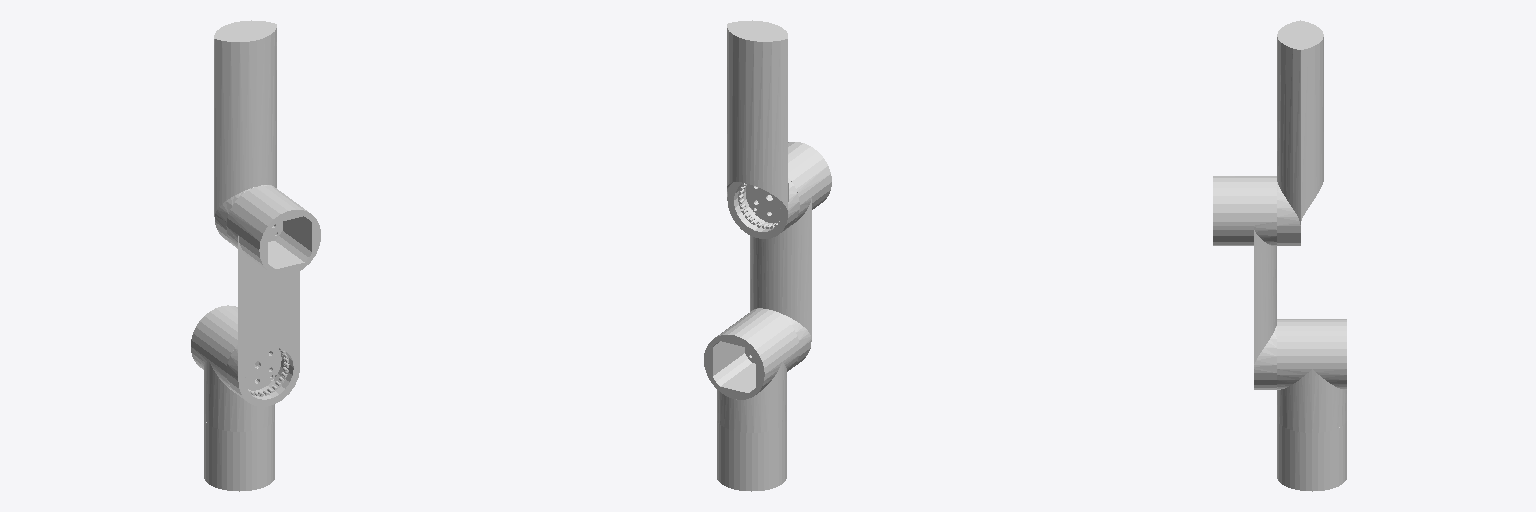
robot.urdf — arm-v6-ik:
<?xml version="1.0" encoding="utf-8"?>
<!-- This URDF was automatically created by SolidWorks to URDF Exporter! Originally created by Stephen Brawner (brawner@gmail.com) 
     Commit Version: 1.6.0-4-g7f85cfe  Build Version: 1.6.7995.38578
     For more information, please see http://wiki.ros.org/sw_urdf_exporter -->
<robot
  name="arm-v6-ik">
  <link
    name="base_link">
    <inertial>
      <origin
        xyz="2.3661E-18 -0.019937 2.4154E-18"
        rpy="0 0 0" />
      <mass
        value="0.067122" />
      <inertia
        ixx="4.1725E-05"
        ixy="9.8334E-22"
        ixz="6.7643E-22"
        iyy="4.5278E-05"
        iyz="-5.7814E-21"
        izz="4.1725E-05" />
    </inertial>
    <visual>
      <origin
        xyz="0 0 0"
        rpy="0 0 0" />
      <geometry>
        <mesh
          filename="meshes/base_link.STL" />
      </geometry>
      <material
        name="">
        <color
          rgba="0.89412 0.89412 0.89412 1" />
      </material>
    </visual>
    <collision>
      <origin
        xyz="0 0 0"
        rpy="0 0 0" />
      <geometry>
        <mesh
          filename="meshes/base_link.STL" />
      </geometry>
    </collision>
  </link>
  <link
    name="rotary">
    <inertial>
      <origin
        xyz="0.0016484 -5.4453E-07 0.050018"
        rpy="0 0 0" />
      <mass
        value="0.11473" />
      <inertia
        ixx="0.00011646"
        ixy="2.1954E-10"
        ixz="-2.8336E-06"
        iyy="0.00011303"
        iyz="-7.8031E-11"
        izz="7.9819E-05" />
    </inertial>
    <visual>
      <origin
        xyz="0 0 0"
        rpy="0 0 0" />
      <geometry>
        <mesh
          filename="meshes/rotary.STL" />
      </geometry>
      <material
        name="">
        <color
          rgba="0.89412 0.89412 0.89412 1" />
      </material>
    </visual>
    <collision>
      <origin
        xyz="0 0 0"
        rpy="0 0 0" />
      <geometry>
        <mesh
          filename="meshes/rotary.STL" />
      </geometry>
    </collision>
  </link>
  <joint
    name="rotary"
    type="revolute">
    <origin
      xyz="0 0 0"
      rpy="0 0 -1.5708" />
    <parent
      link="base_link" />
    <child
      link="rotary" />
    <axis
      xyz="0 0 1" />
    <limit
      lower="0"
      upper="0"
      effort="0"
      velocity="0" />
  </joint>
  <link
    name="shoulder">
    <inertial>
      <origin
        xyz="-0.085778 7.1453E-07 0.020049"
        rpy="0 0 0" />
      <mass
        value="0.16216" />
      <inertia
        ixx="7.5801E-05"
        ixy="-2.1107E-09"
        ixz="4.6784E-05"
        iyy="0.00045993"
        iyz="1.0257E-09"
        izz="0.00047777" />
    </inertial>
    <visual>
      <origin
        xyz="0 0 0"
        rpy="0 0 0" />
      <geometry>
        <mesh
          filename="meshes/shoulder.STL" />
      </geometry>
      <material
        name="">
        <color
          rgba="0.89412 0.89412 0.89412 1" />
      </material>
    </visual>
    <collision>
      <origin
        xyz="0 0 0"
        rpy="0 0 0" />
      <geometry>
        <mesh
          filename="meshes/shoulder.STL" />
      </geometry>
    </collision>
  </link>
  <joint
    name="shoulder"
    type="revolute">
    <origin
      xyz="0.027 0 0.065"
      rpy="0 1.5708 0" />
    <parent
      link="rotary" />
    <child
      link="shoulder" />
    <axis
      xyz="0 0 1" />
    <limit
      lower="0"
      upper="0"
      effort="0"
      velocity="0" />
  </joint>
  <link
    name="elbow">
    <inertial>
      <origin
        xyz="1.9571E-08 0.087078 0.012121"
        rpy="0 0 0" />
      <mass
        value="0.26414" />
      <inertia
        ixx="0.00061693"
        ixy="1.9089E-10"
        ixz="-1.6288E-10"
        iyy="8.3562E-05"
        iyz="-2.0211E-05"
        izz="0.00064911" />
    </inertial>
    <visual>
      <origin
        xyz="0 0 0"
        rpy="0 0 0" />
      <geometry>
        <mesh
          filename="meshes/elbow.STL" />
      </geometry>
      <material
        name="">
        <color
          rgba="0.89412 0.89412 0.89412 1" />
      </material>
    </visual>
    <collision>
      <origin
        xyz="0 0 0"
        rpy="0 0 0" />
      <geometry>
        <mesh
          filename="meshes/elbow.STL" />
      </geometry>
    </collision>
  </link>
  <joint
    name="elbow"
    type="revolute">
    <origin
      xyz="-0.135 0 -0.004"
      rpy="3.1416 0 -1.5708" />
    <parent
      link="shoulder" />
    <child
      link="elbow" />
    <axis
      xyz="0 0 1" />
    <limit
      lower="0"
      upper="0"
      effort="0"
      velocity="0" />
  </joint>
</robot>

--- Render facts (derived) ---
Views: 3 orthographic renders of the robot side by side, from view 1: azimuth 30°, elevation 25°; view 2: azimuth 150°, elevation 25°; view 3: azimuth 270°, elevation 25°.
Robot: arm-v6-ik — 4 links, 3 joints (3 revolute); root link base_link; default pose: all joints at 0.
Links seen in each view (by area): view 1: shoulder, elbow, rotary, base_link; view 2: elbow, shoulder, rotary, base_link; view 3: elbow, shoulder, rotary, base_link.
Link boxes in pixels (x1=…): shoulder: x1=226, y1=185, x2=320, y2=406; elbow: x1=214, y1=20, x2=276, y2=245; rotary: x1=191, y1=305, x2=281, y2=431; base_link: x1=204, y1=420, x2=274, y2=491; elbow: x1=727, y1=20, x2=799, y2=238; shoulder: x1=746, y1=142, x2=831, y2=366; rotary: x1=704, y1=309, x2=799, y2=432; base_link: x1=717, y1=421, x2=786, y2=491; elbow: x1=1277, y1=20, x2=1323, y2=245; shoulder: x1=1213, y1=176, x2=1276, y2=389; rotary: x1=1277, y1=319, x2=1346, y2=432; base_link: x1=1277, y1=420, x2=1346, y2=491.
Size in the robot's own frame: 0.06 by 0.115 by 0.415 metres.
Meshes: 4 distinct files referenced, 4 mesh visuals loaded (4 binary STL).
